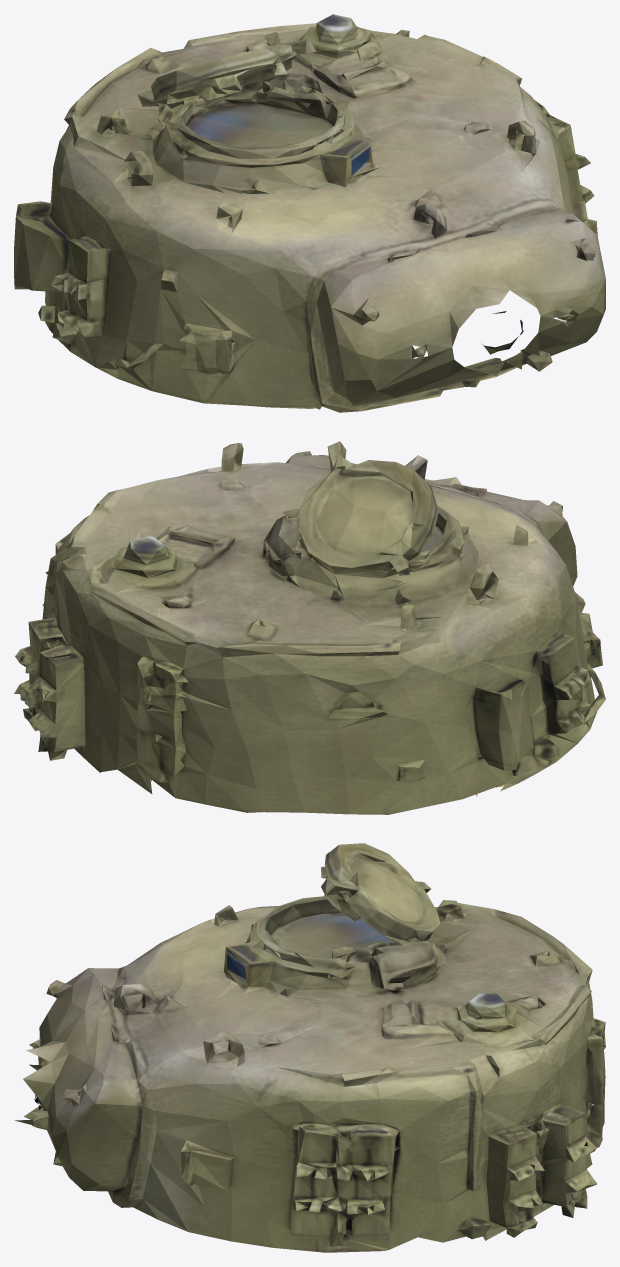
Rendered from sherman_turret2.obj.
The picture shows the model from 3 angles, top to bottom: view 1: azimuth 30°, elevation 25°; view 2: azimuth 150°, elevation 25°; view 3: azimuth 270°, elevation 25°; orthographic projection. The views are drawn at different scales.
Parts seen in each view (by area): view 1: sherman_turret2; view 2: sherman_turret2; view 3: sherman_turret2.
Boxes of the visible parts, x1,y1,x2,y2 form: sherman_turret2: [14, 14, 605, 412]; sherman_turret2: [14, 441, 605, 814]; sherman_turret2: [14, 843, 605, 1252].
Bounding box in the file's own units: 2.6 × 1.3 × 2.65.
1 material, 1 textured.
